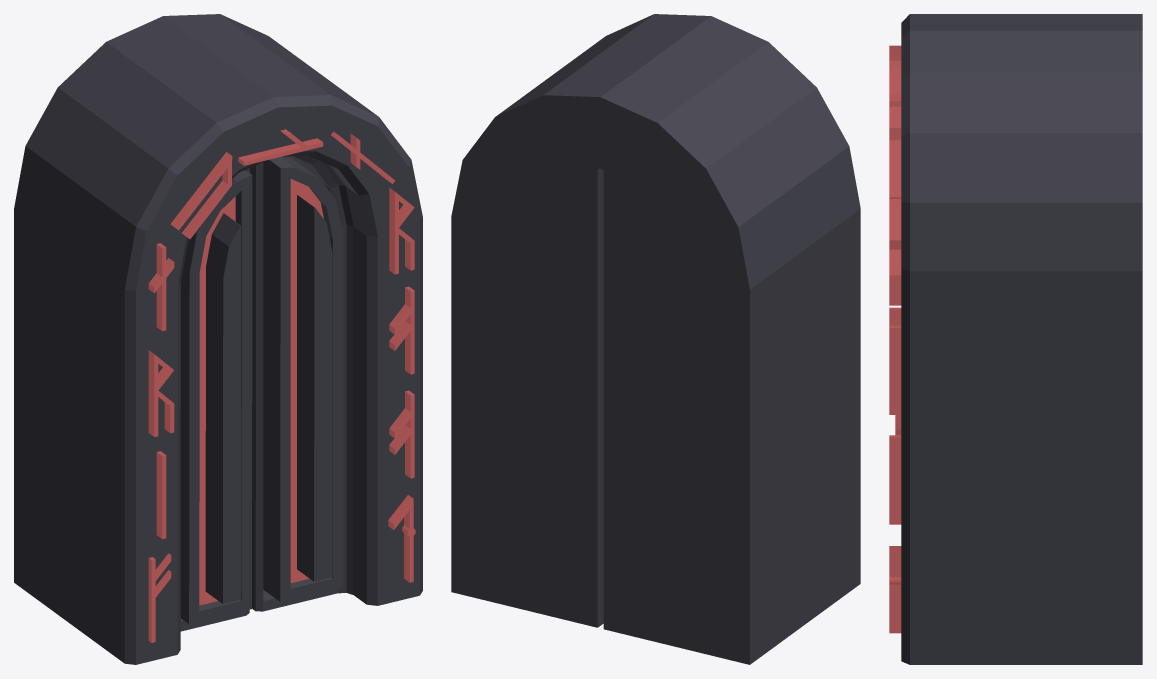
Rendered from firedoor.glb.
3 views of the same model, side by side, from view 1: azimuth 30°, elevation 25°; view 2: azimuth 150°, elevation 25°; view 3: azimuth 270°, elevation 25° (orthographic). The views are drawn at different scales.
Visible parts, largest first — view 1: Cube.001, T.011; view 2: Cube.001; view 3: Cube.001, T.011.
Part boxes in pixels (box(x1,y1,x2,y2)): Cube.001: box(14, 14, 422, 664); T.011: box(148, 129, 415, 642); Cube.001: box(451, 14, 860, 664); Cube.001: box(901, 14, 1142, 664); T.011: box(889, 45, 901, 633).
Bounding box in the file's own units: 3 × 5.1 × 2.1.
Materials: 2 (2 with a texture image).
